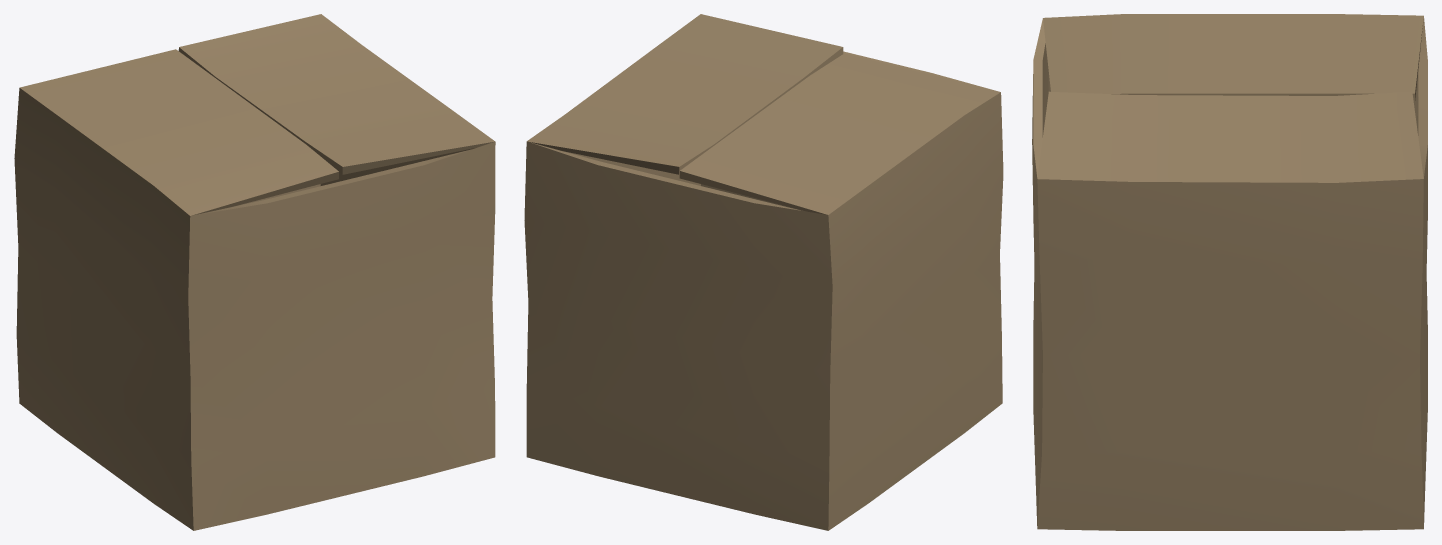
The picture shows the model from 3 angles, left to right: view 1: azimuth 30°, elevation 25°; view 2: azimuth 150°, elevation 25°; view 3: azimuth 270°, elevation 25°; orthographic projection. The views are drawn at different scales.
Parts seen in each view (by area): view 1: Box; view 2: Box; view 3: Box.
Part boxes in pixels (x1,y1,x2,y2): Box: [14, 14, 495, 530]; Box: [524, 14, 1003, 530]; Box: [1032, 14, 1427, 530].
Bounding box in the file's own units: 212 × 212 × 211.
